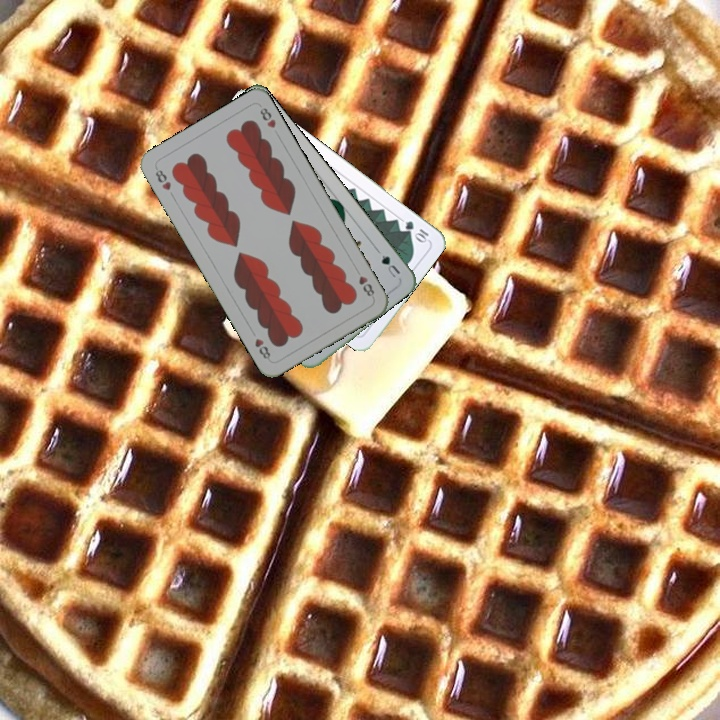G10: (401, 217, 431, 246)
GU: (377, 251, 403, 281)
H8: (351, 264, 377, 299), (151, 163, 174, 193)
